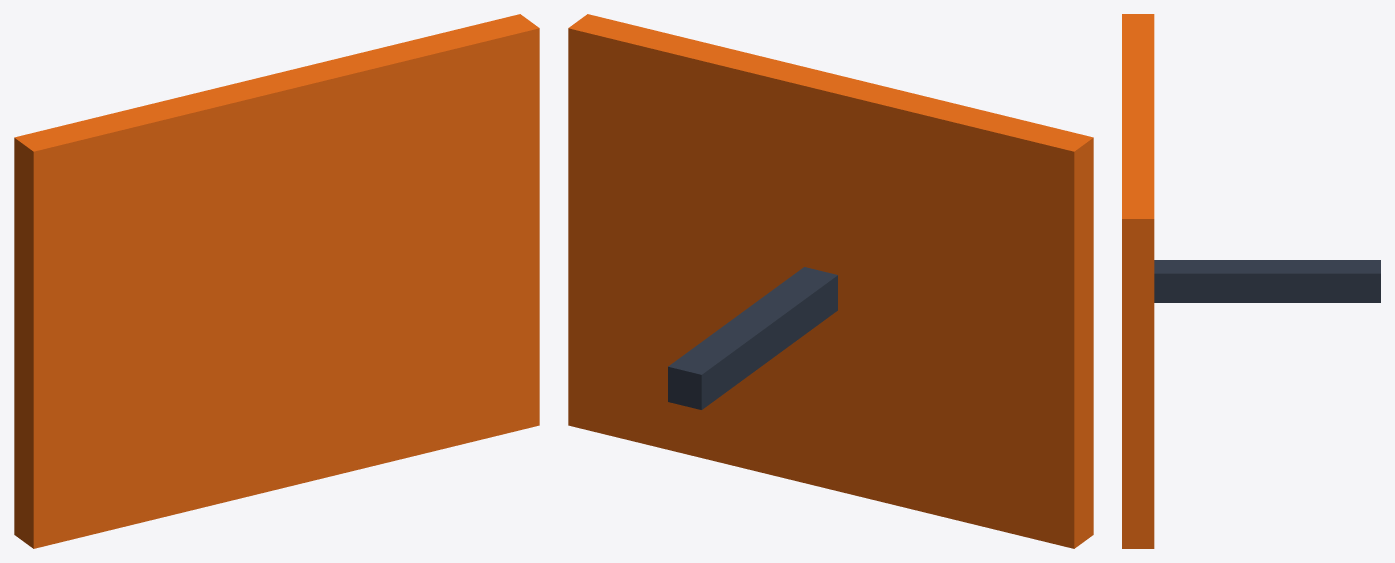
Rendered from yard-safety-mirror-body-authored-atlas.glb.
The picture shows the model from 3 angles, left to right: view 1: azimuth 30°, elevation 25°; view 2: azimuth 150°, elevation 25°; view 3: azimuth 270°, elevation 25°; orthographic projection. The views are drawn at different scales.
Parts seen in each view (by area): view 1: Authored surface.011; view 2: Authored surface.011; view 3: Authored surface.011.
Boxes of the visible parts, bbox=[...] form: Authored surface.011: bbox=[14, 14, 539, 548]; Authored surface.011: bbox=[568, 14, 1093, 548]; Authored surface.011: bbox=[1122, 14, 1380, 548].
Bounding box in the file's own units: 1.2 × 0.9 × 0.64.
Materials: 1 (1 with a texture image).
